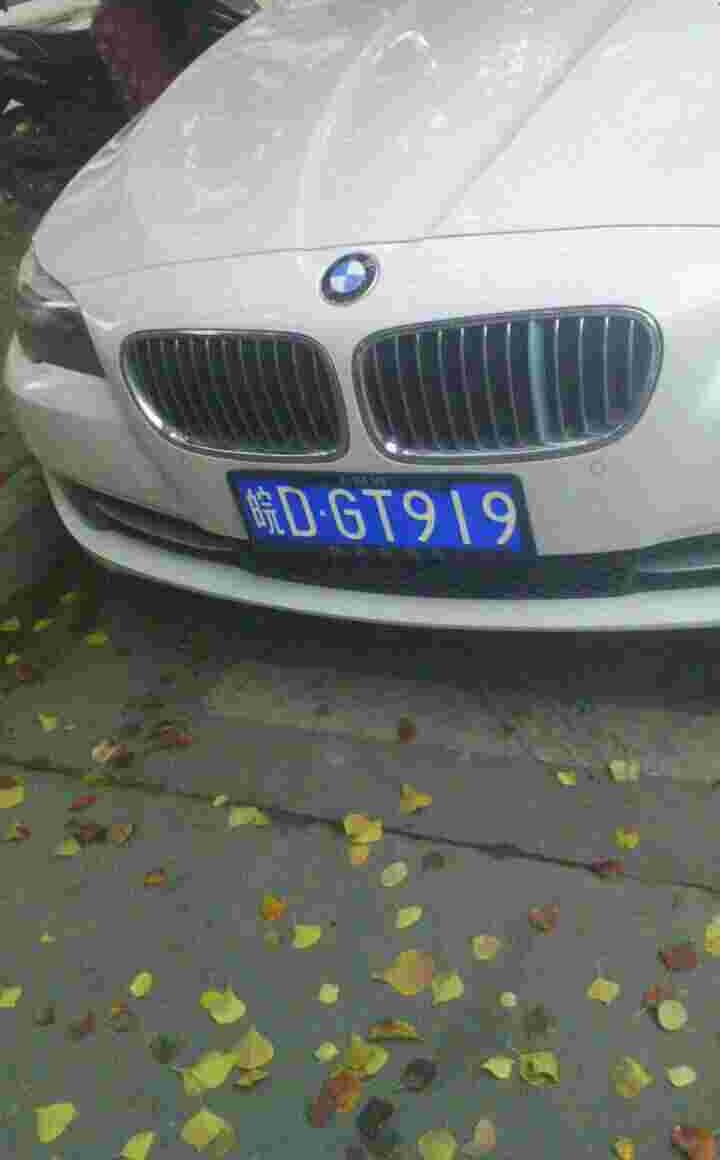license_plate: (240, 469, 533, 559)
